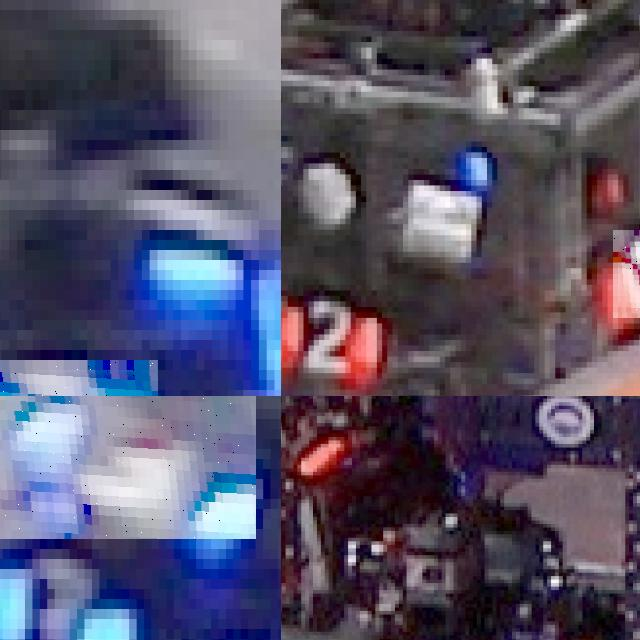B3: (0, 396, 255, 539), (0, 539, 136, 640), (0, 360, 157, 396)
R2: (281, 295, 377, 384), (613, 229, 640, 318)
